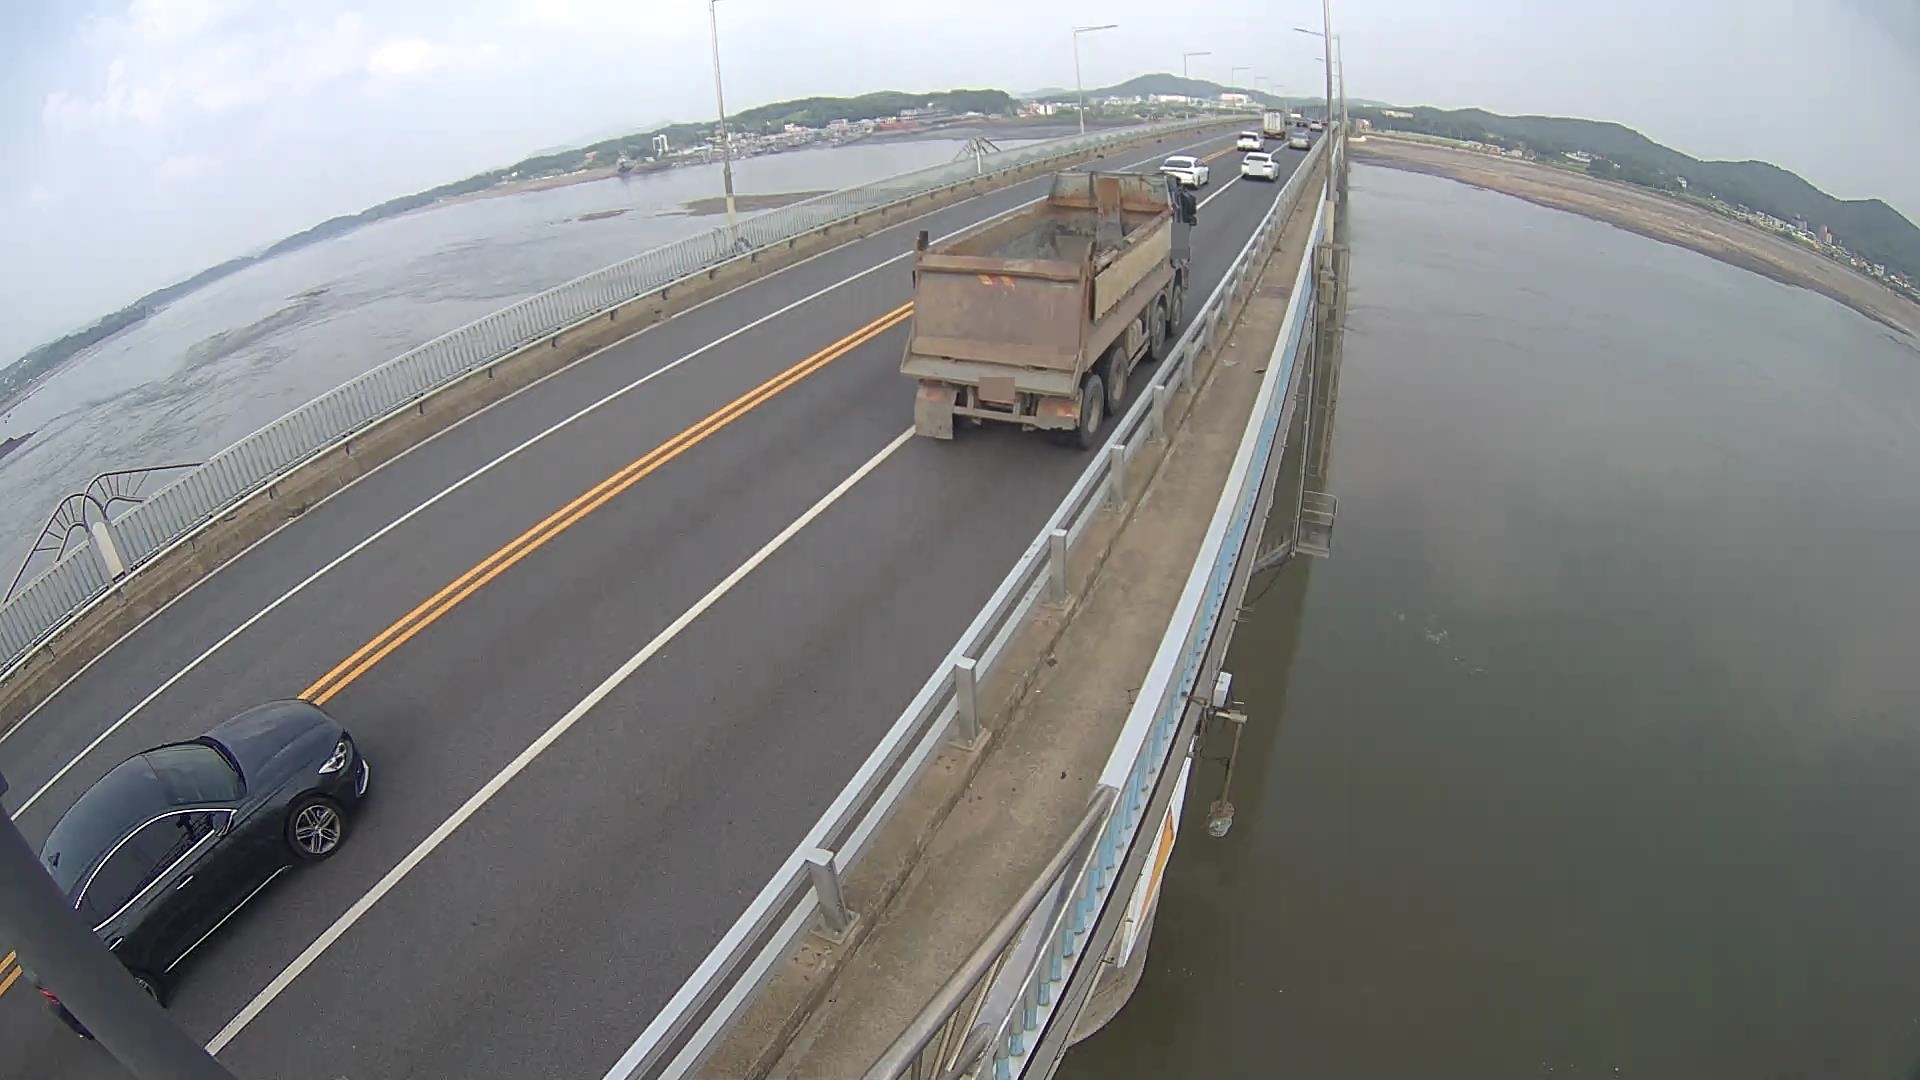정상차량: (899, 171, 1196, 449)
